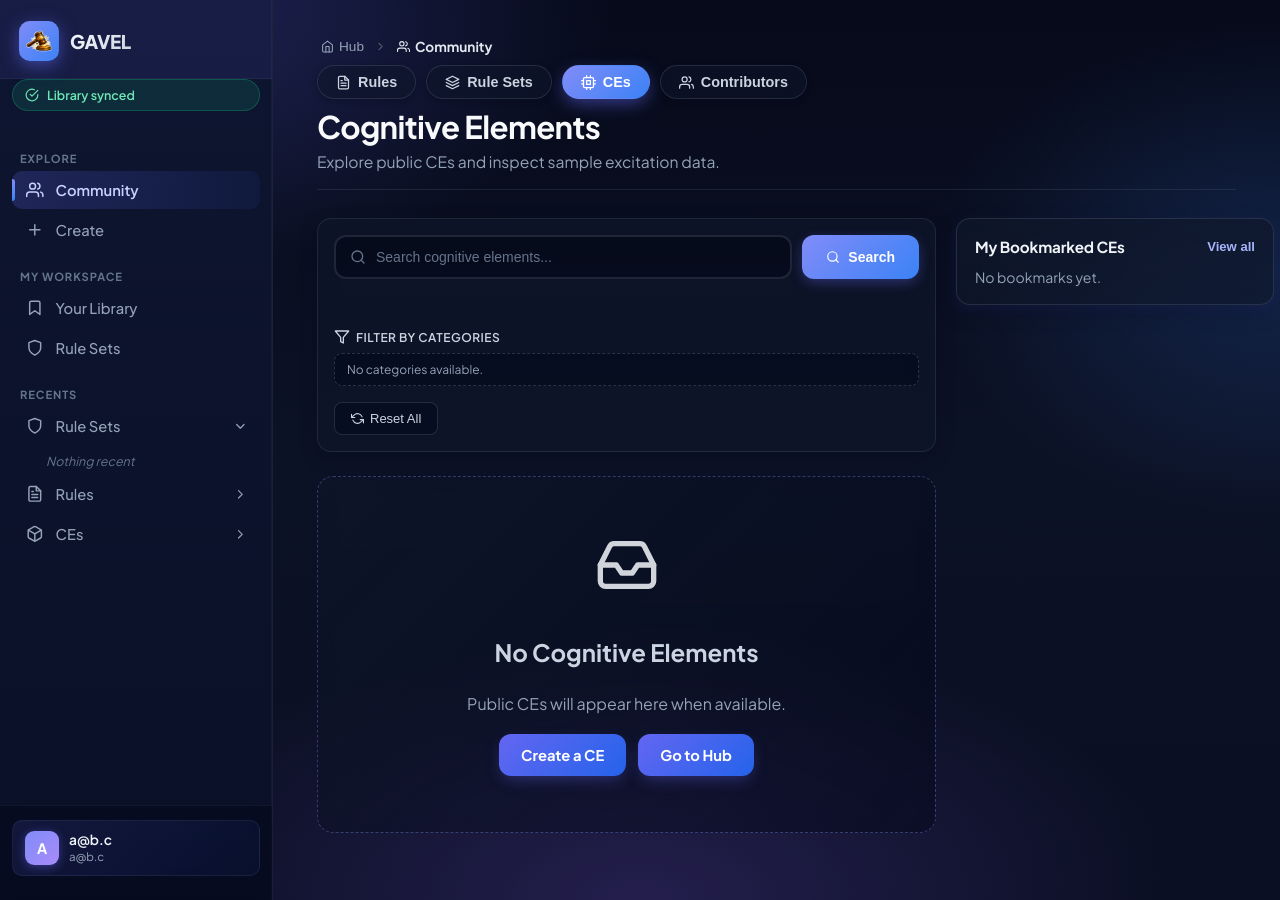
Test: BrowseCEs — live search › shows a no-results message when the search returns nothing
Check: the heading "No Cognitive Elements" is shown, box [494, 637, 759, 667]
In the field with placeholder "Search cognitive elements...": (571, 257) [366, 237, 776, 277], type "zzzznotfound"
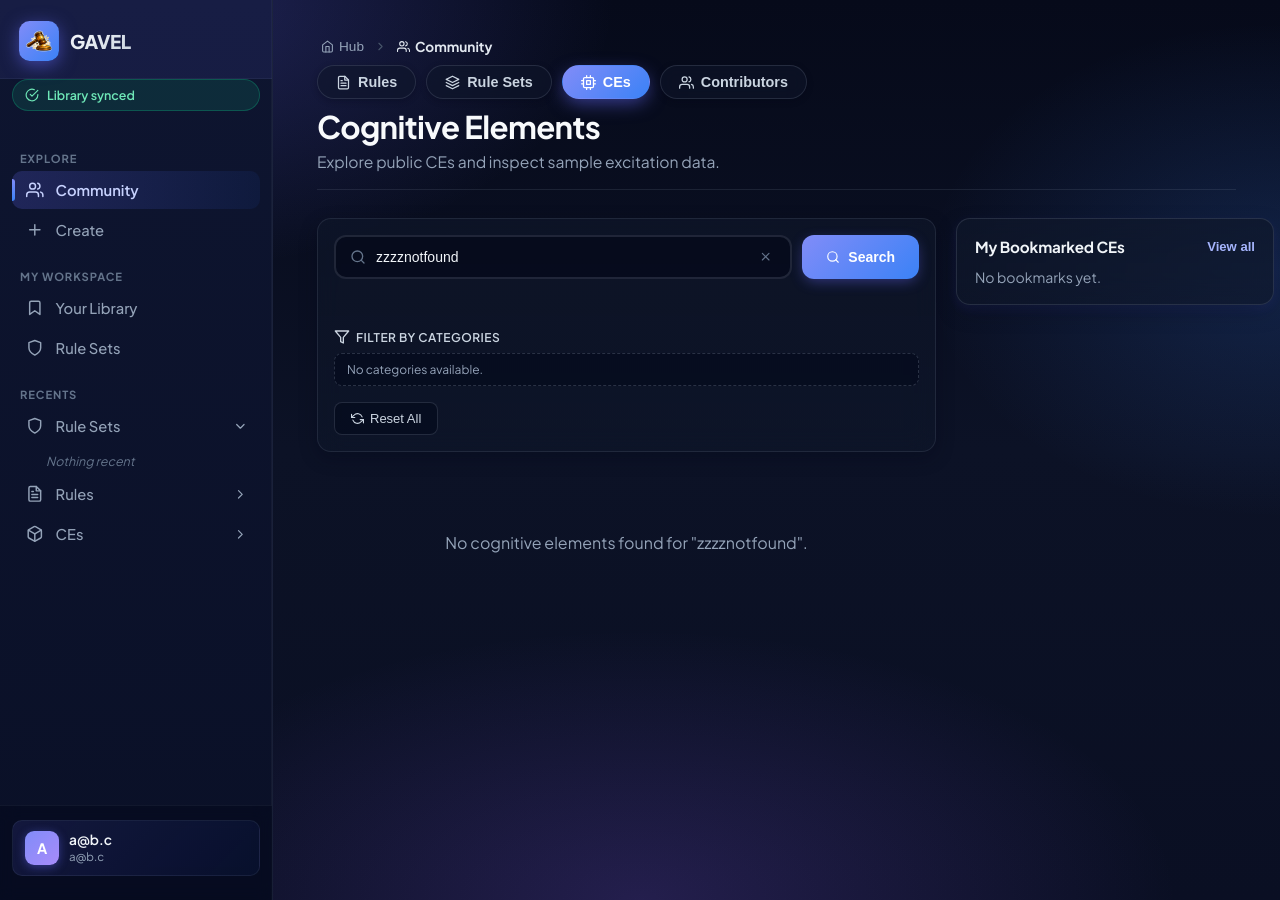
Check: the text "No cognitive elements found for \"zzzznotfound\"." is shown, box [445, 532, 808, 553]
